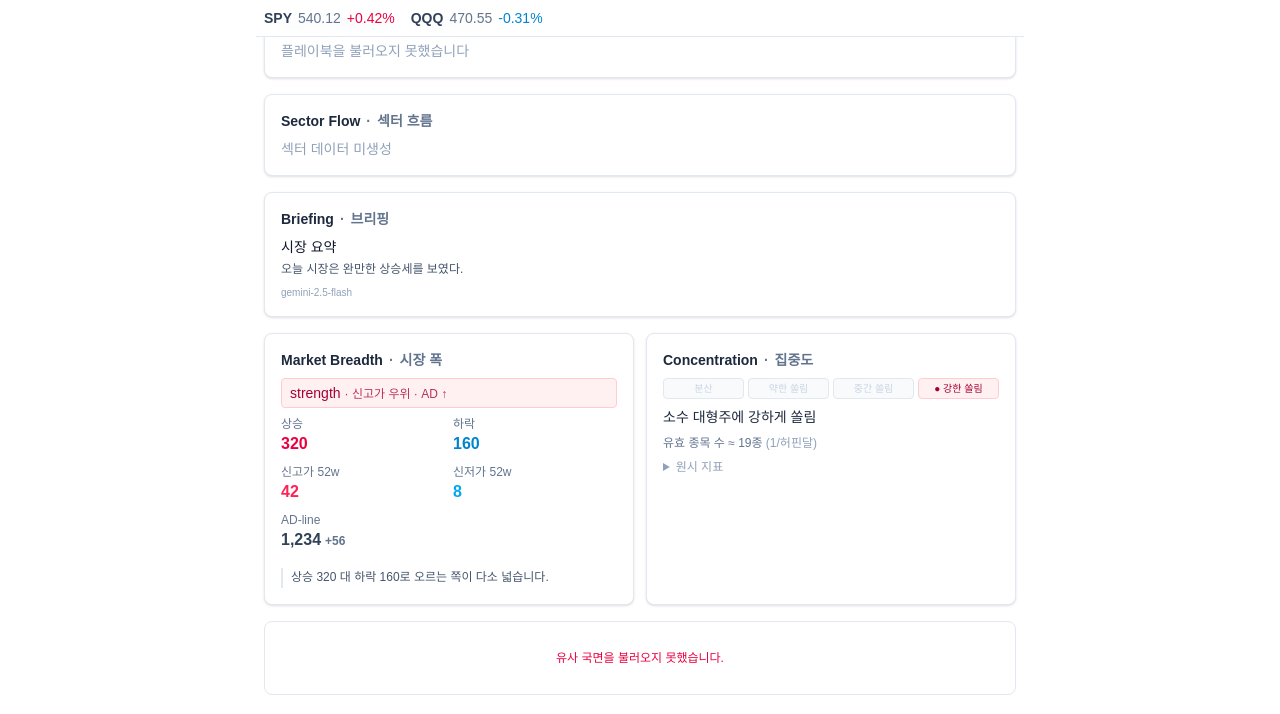
Test case: MarketPulseV2Page › 라우팅: Market Breadth 카드 → drawer 타이틀 "Market Breadth · 시장 폭"
(page scrolled)
Step 1. Click the text "Market Breadth" → (332, 360), box [281,352,383,368]
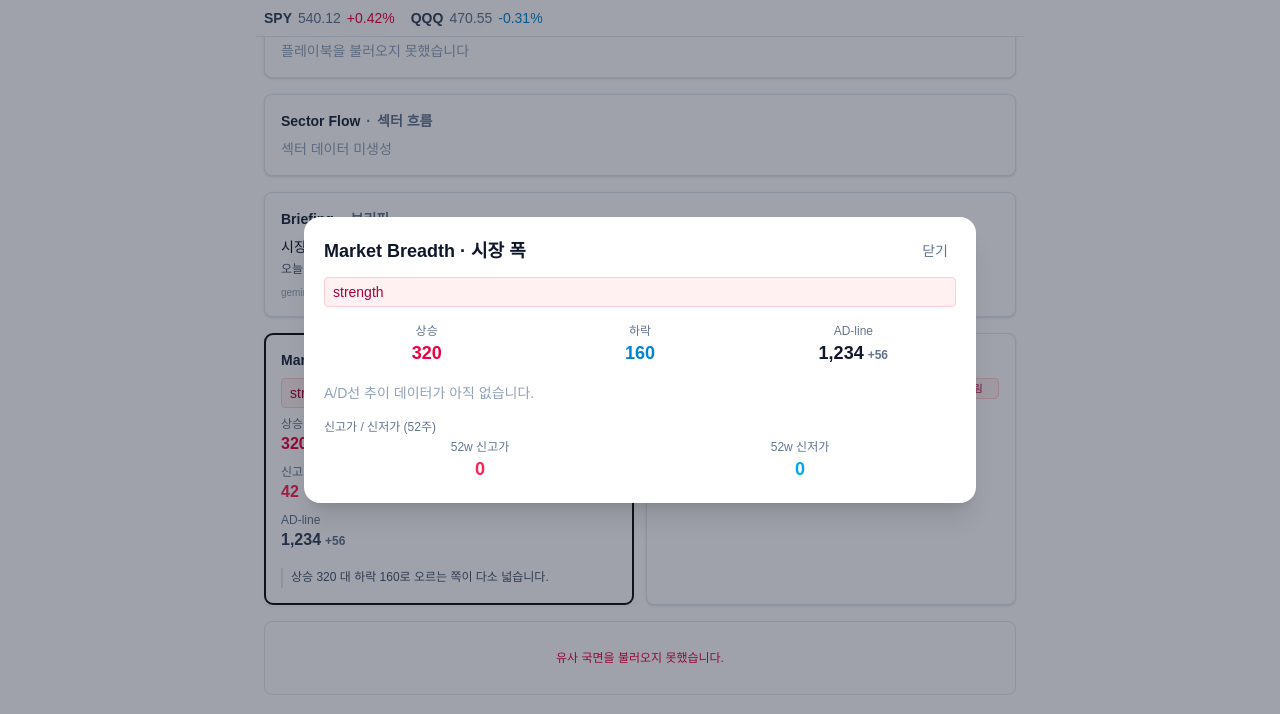
Result: the heading "Market Breadth · 시장 폭" is shown at [324,237,526,265]
